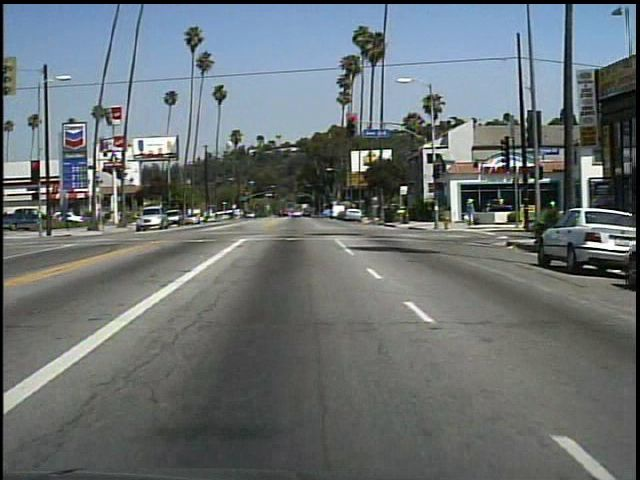person: (540, 194, 563, 235), (462, 194, 478, 227)
